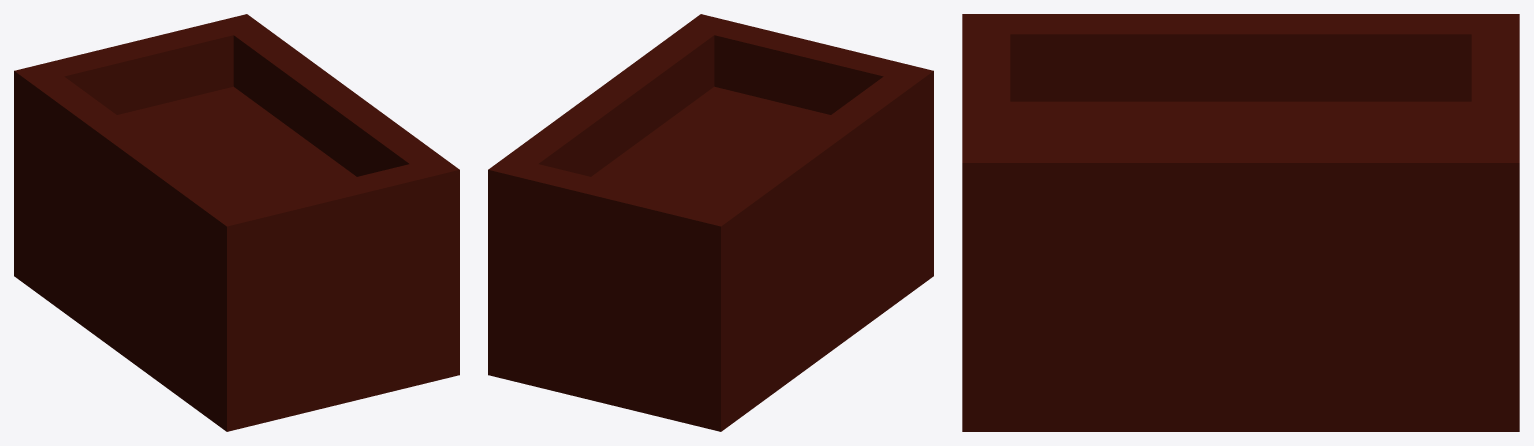
The model's file is mdl_Brick.fbx.
The picture shows the model from 3 angles, left to right: view 1: azimuth 30°, elevation 25°; view 2: azimuth 150°, elevation 25°; view 3: azimuth 270°, elevation 25°; orthographic projection. The views are drawn at different scales.
Visible parts, largest first — view 1: Box001; view 2: Box001; view 3: Box001.
Boxes of the visible parts, box(x1,y1,x2,y2) form: Box001: box(14, 14, 459, 431); Box001: box(488, 14, 933, 431); Box001: box(962, 14, 1519, 431).
Bounding box in the file's own units: 11.91 × 18.84 × 10.04.
